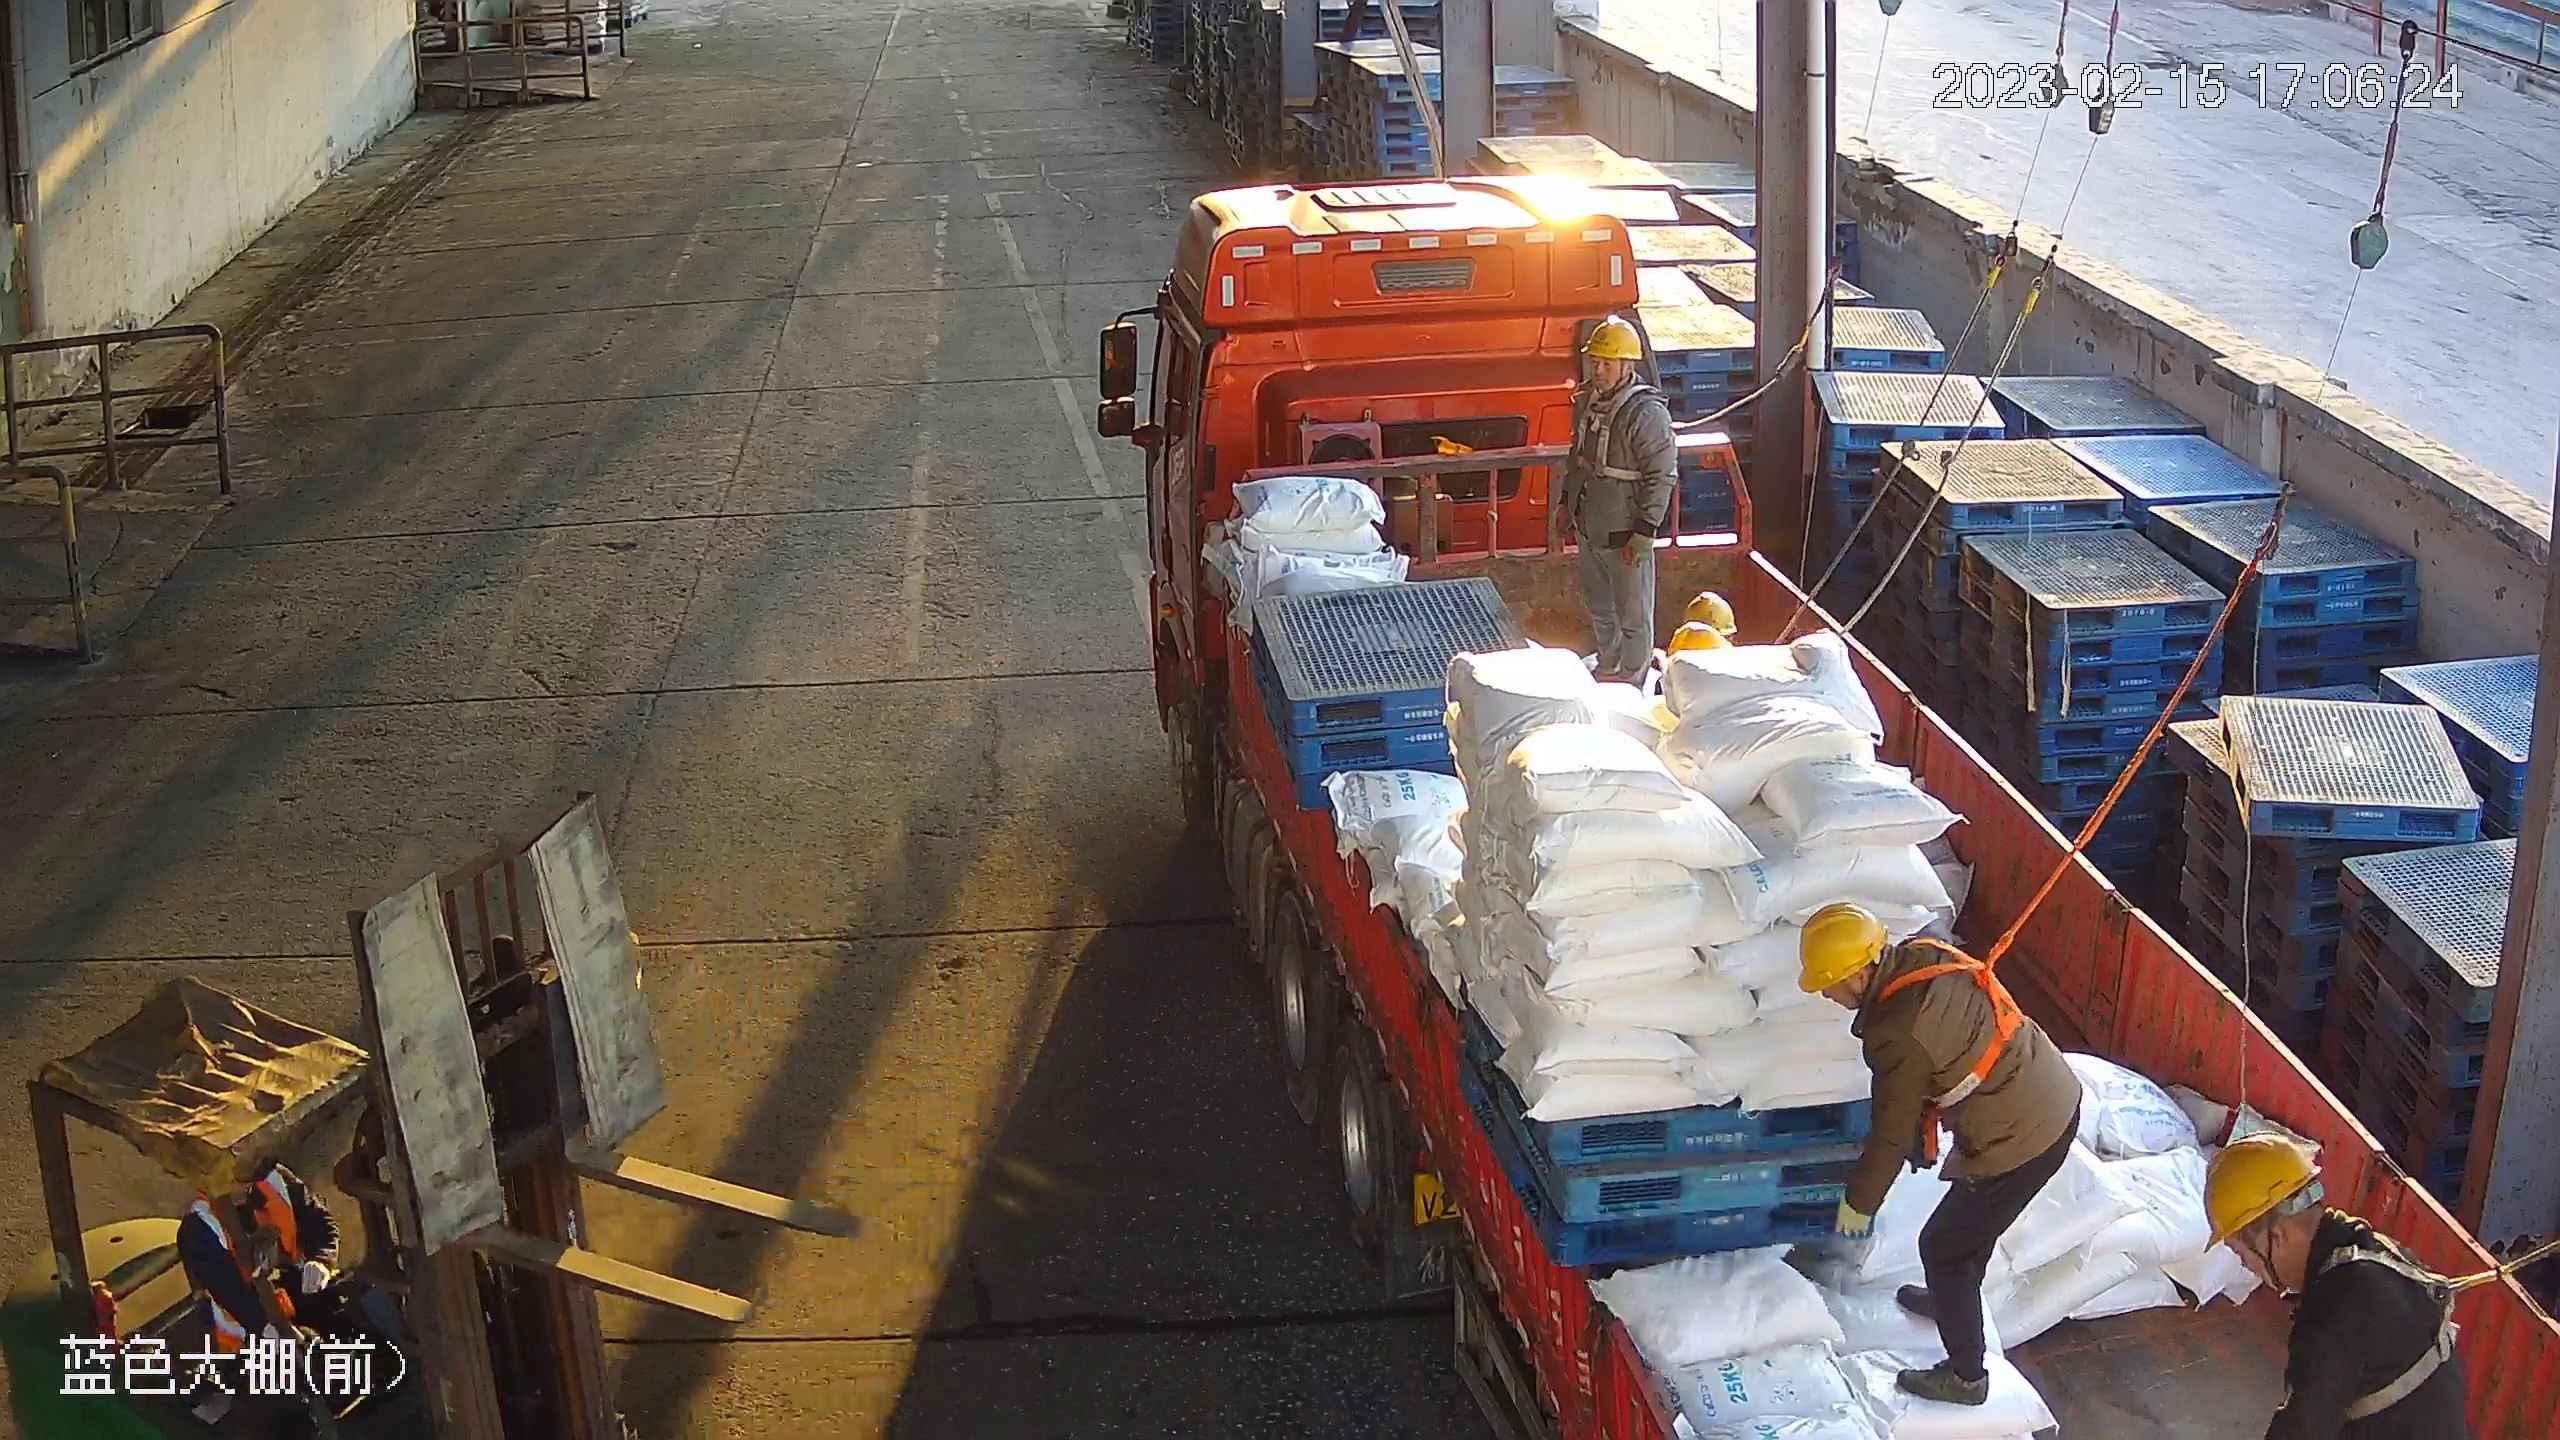belt: (2316, 1225, 2481, 1425), (1888, 923, 2037, 1105), (1575, 382, 1653, 486)
head: (2201, 1136, 2458, 1408), (1798, 900, 1990, 1060), (1564, 319, 1666, 436)
helmet: (2202, 1135, 2318, 1251), (1798, 899, 1890, 995), (1579, 316, 1643, 362), (1665, 623, 1729, 657), (1682, 593, 1737, 632)
people: (1798, 898, 2082, 1405), (1557, 319, 1683, 683)
truck: (1098, 179, 2560, 1440)
